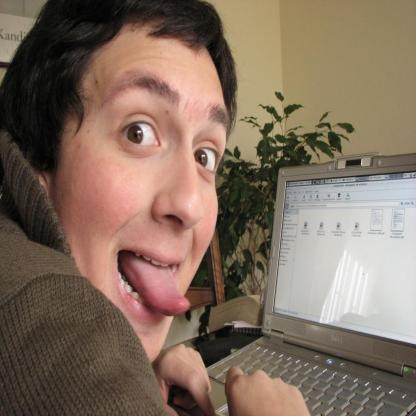board: (214, 150, 412, 416)
